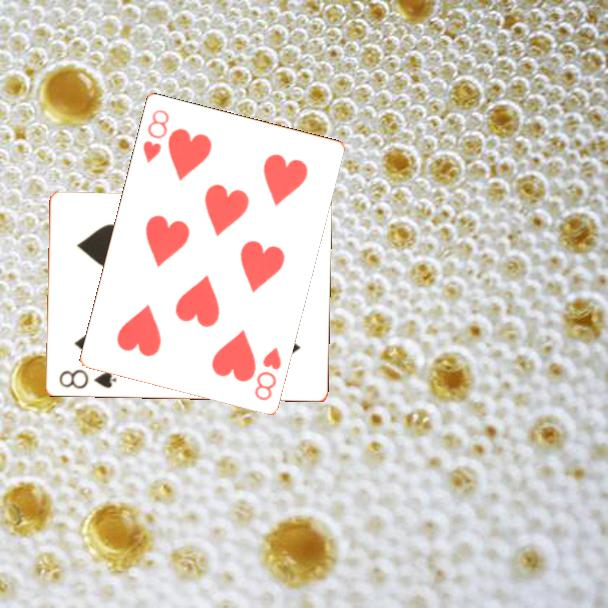h08: (139, 106, 172, 166), (251, 343, 284, 403)
s08: (55, 366, 119, 392)
